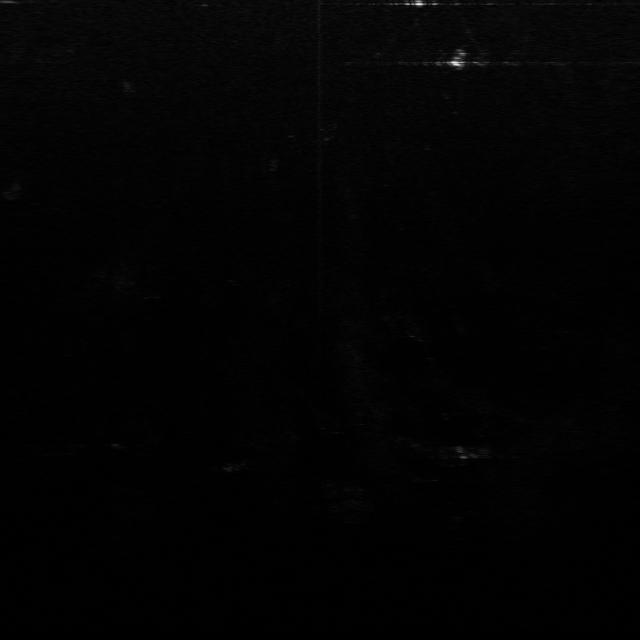rov: (446, 44, 474, 68)
